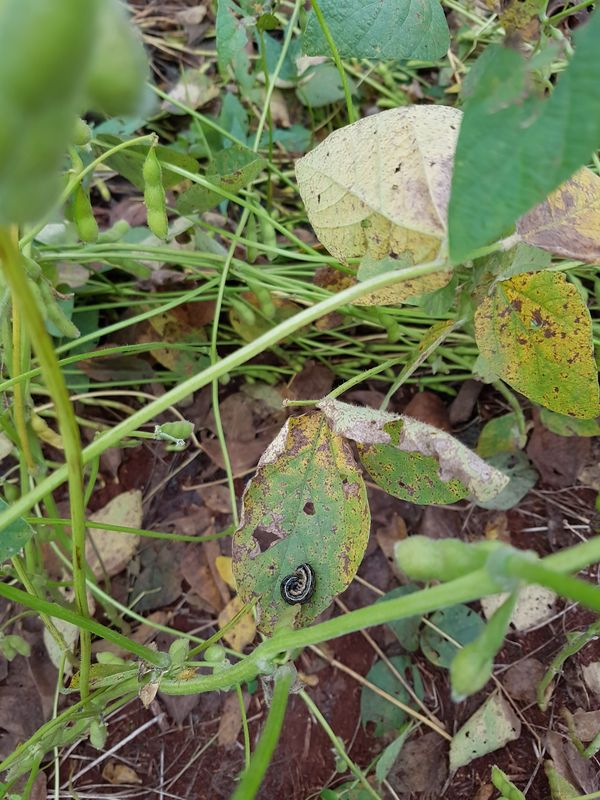Spodoptera_albula: (271, 556, 325, 611)
